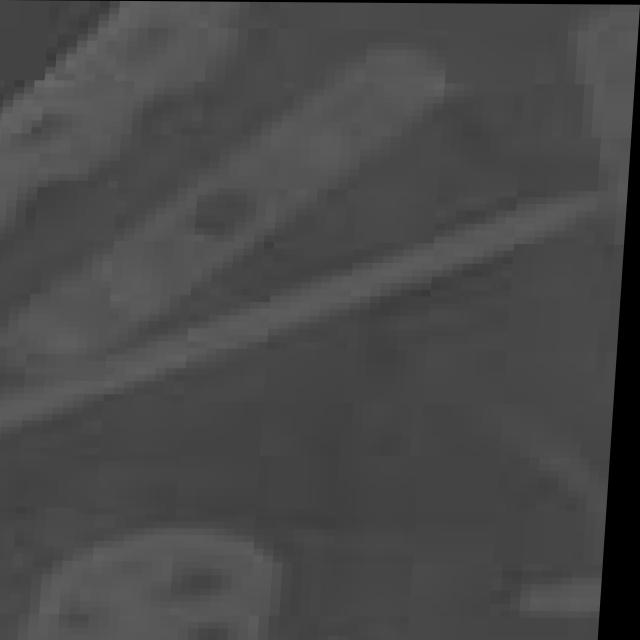fracture: (0, 1, 640, 640)
